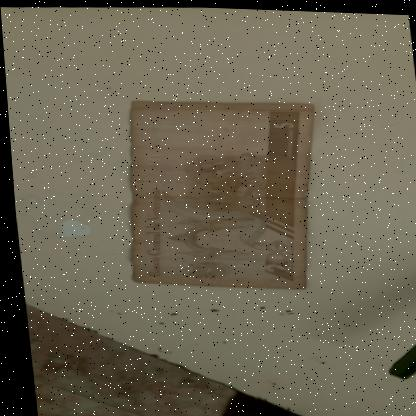five-back-vef: (110, 92, 329, 294)
